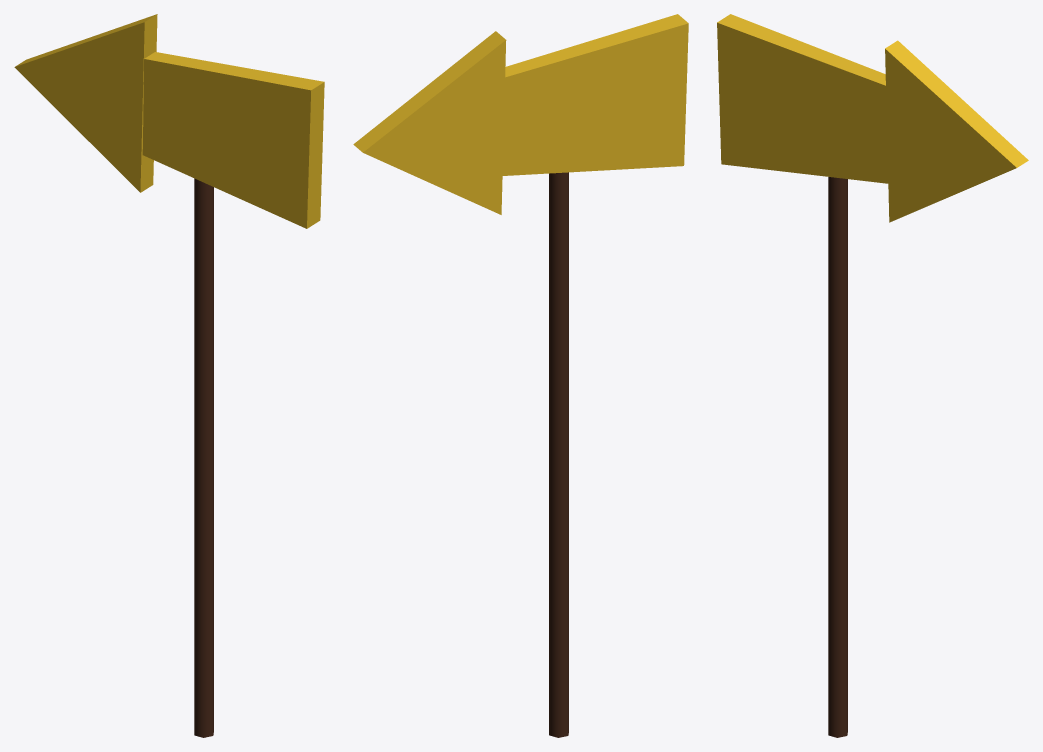
File: Sign1Model.fbx
The picture shows the model from 3 angles, left to right: view 1: azimuth 90°, elevation 25°; view 2: azimuth 150°, elevation 25°; view 3: azimuth 270°, elevation 25°; orthographic projection.
Parts seen in each view (by area): view 1: PlacaAtencao; view 2: PlacaAtencao; view 3: PlacaAtencao.
Part boxes in pixels (left/top/right/bottom): PlacaAtencao: left=14, top=14, right=324, bottom=737; PlacaAtencao: left=353, top=14, right=688, bottom=737; PlacaAtencao: left=717, top=14, right=1028, bottom=737.
Size of the model in its own units: 101 by 359 by 144.
